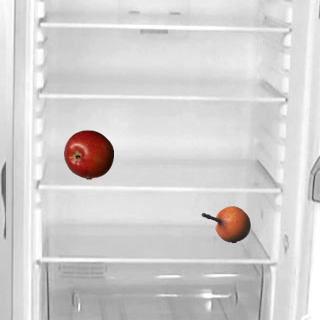Apple Braeburn: (63, 129, 113, 179)
Granadilla: (200, 199, 250, 249)
